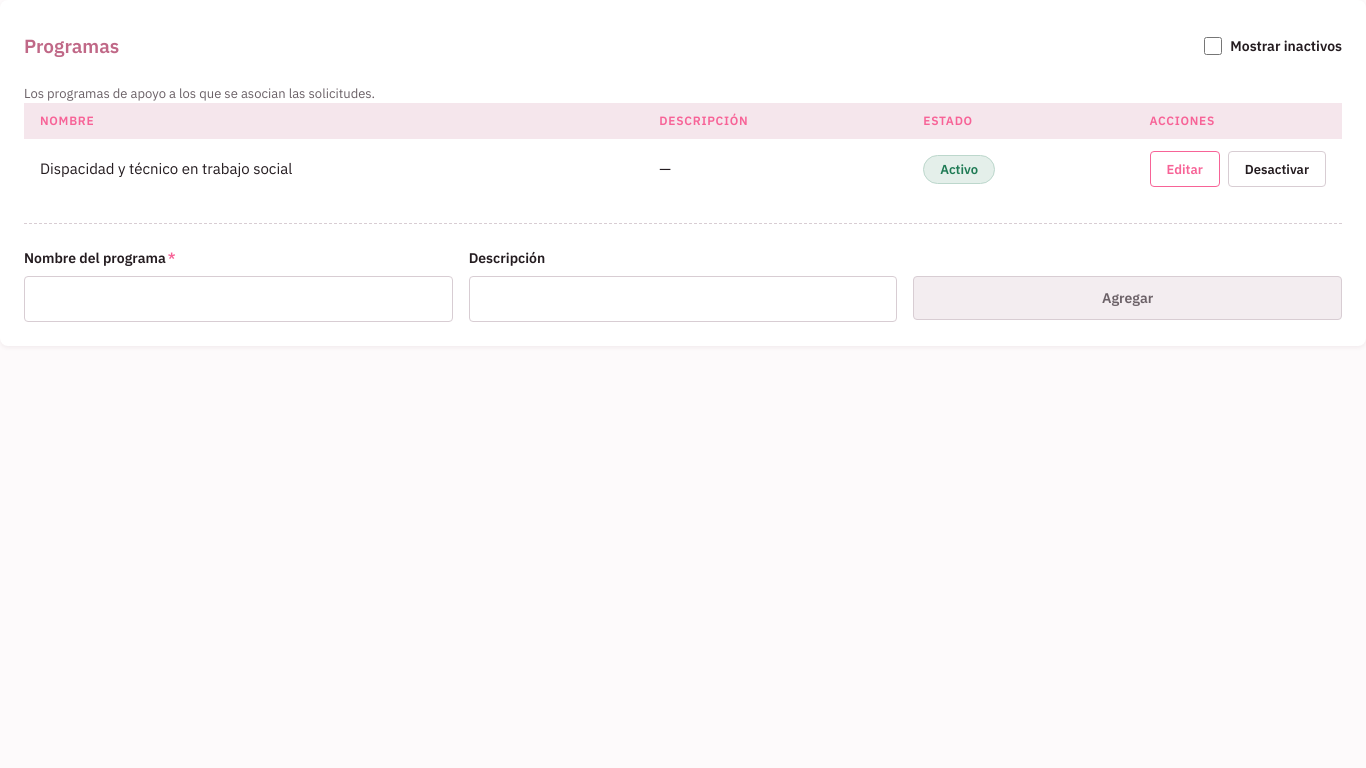
Test: editar un registro del catálogo › un nombre repetido se explica y el modal sigue abierto
Click the button "Editar": point(1185, 169) [1150,151,1220,187]
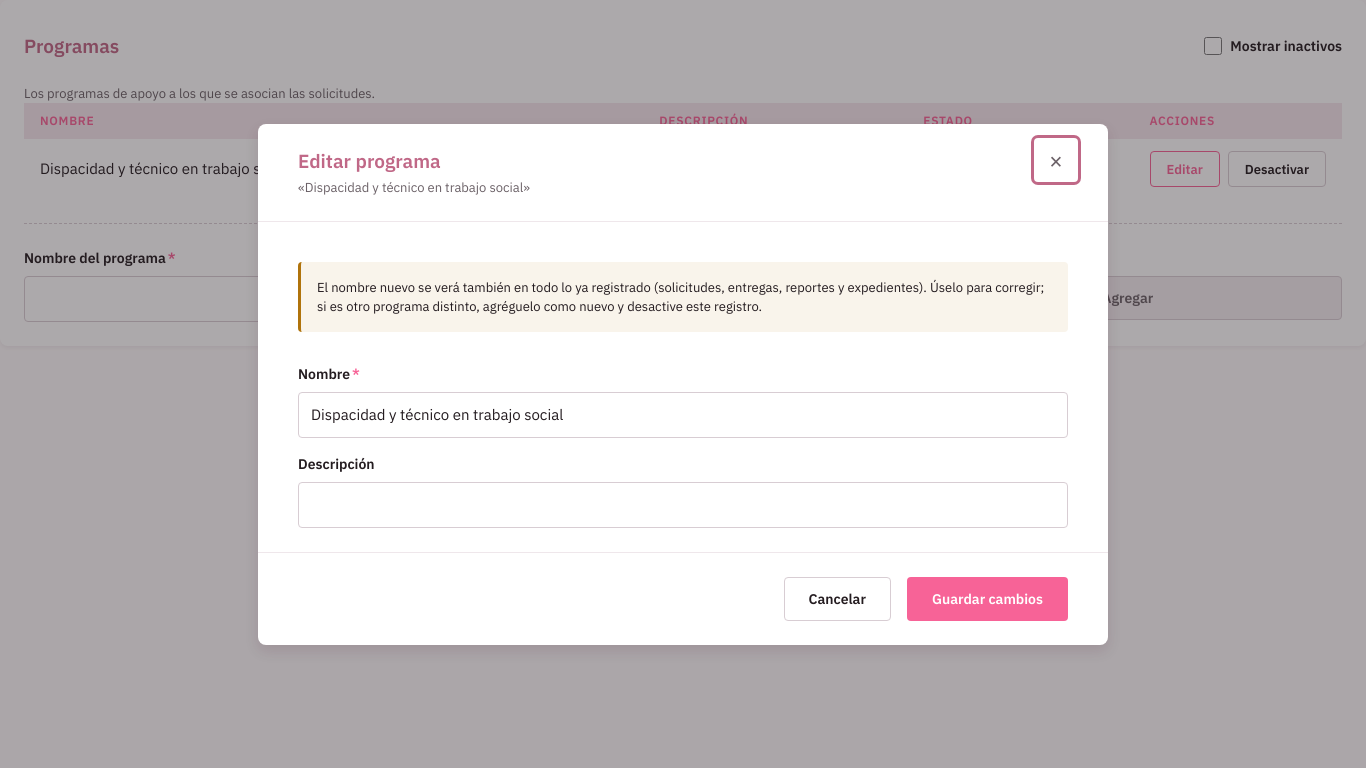
Replace the text in the field labelled "Nombre*" with "OMSAN": point(683, 414) [298,392,1068,438]
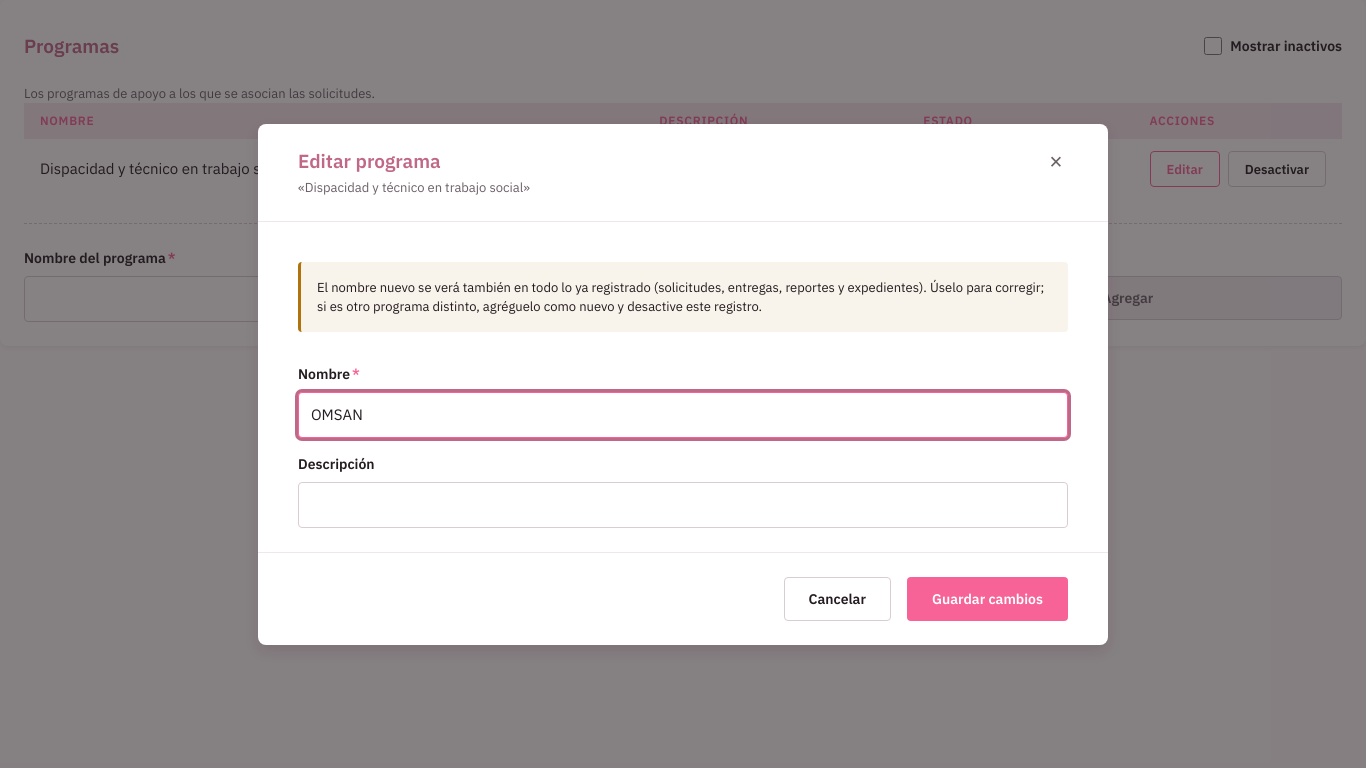
Click the button "Guardar cambios": point(987, 598) [907,576,1068,620]
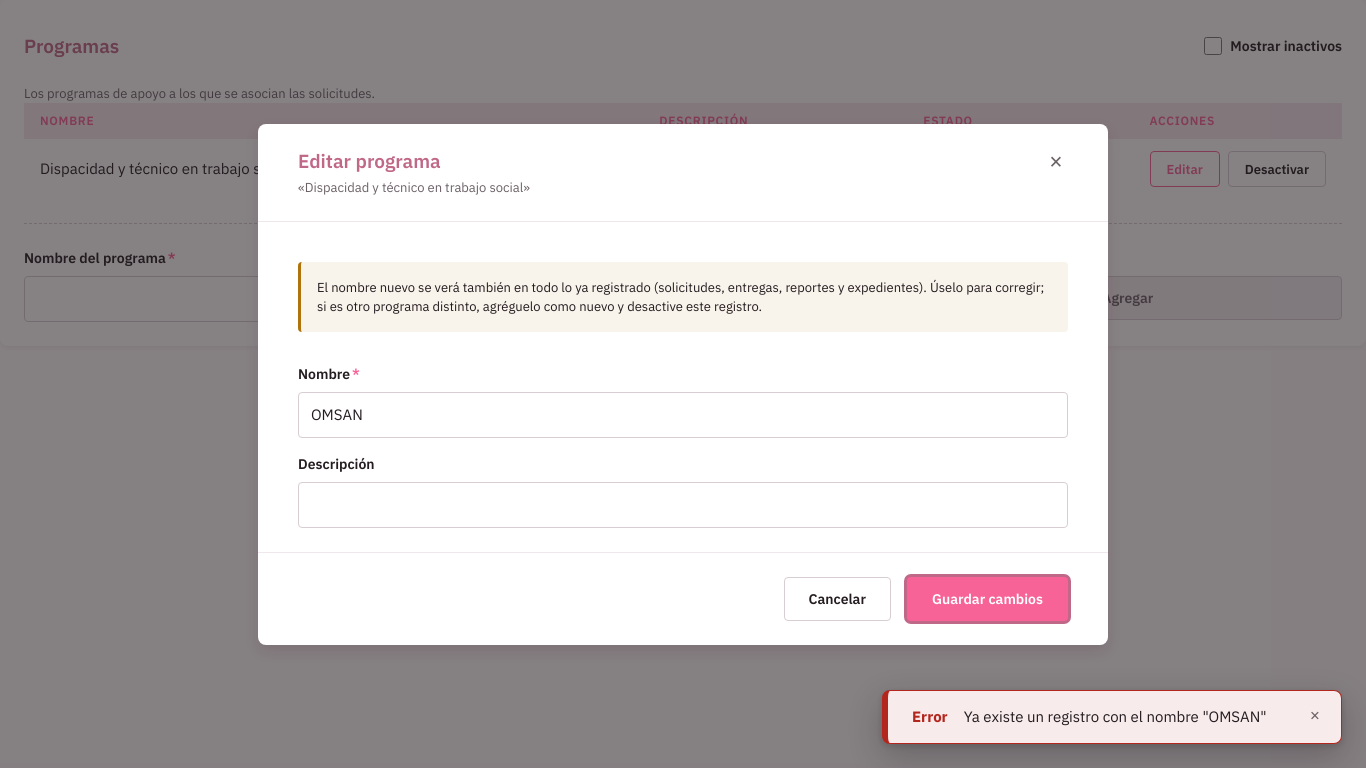
Expected: the dialog is shown, [258,124,1108,644]
Expected: the text "Ya existe un registro con el nombre \"OMSAN\"" is shown, [964,705,1285,729]
